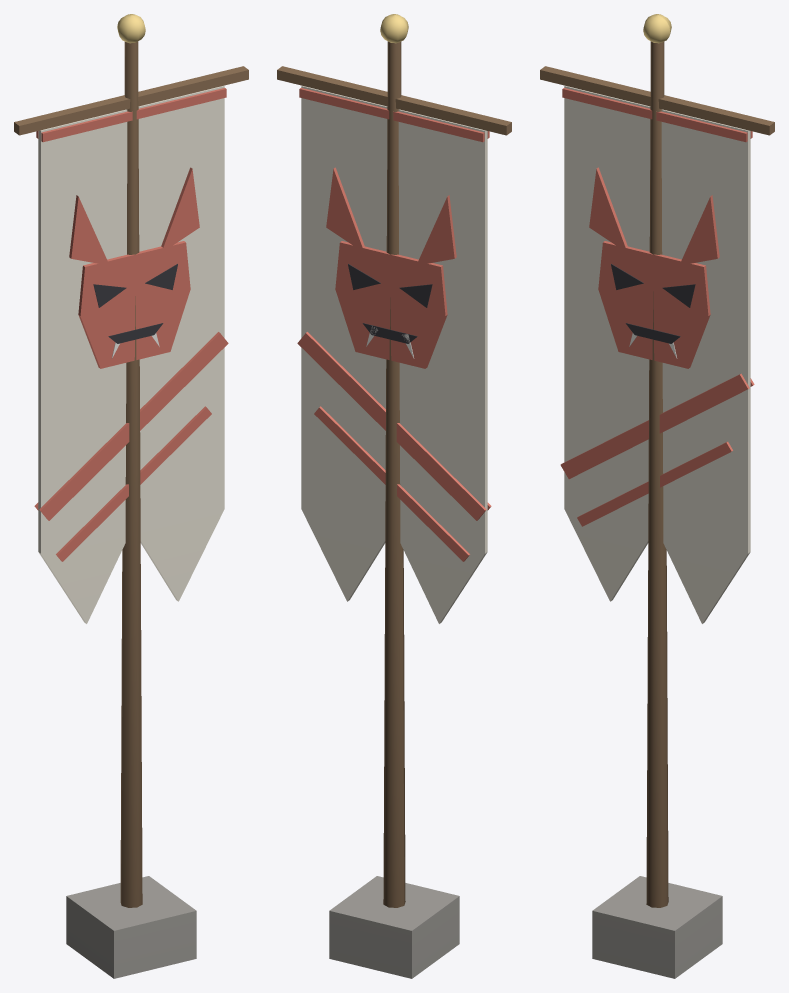
Rendered from banner_kurogane.glb.
3 renders of one model, left to right at view 1: azimuth 30°, elevation 25°; view 2: azimuth 150°, elevation 25°; view 3: azimuth 330°, elevation 25°, orthographic.
Visible parts, largest first — view 1: G_banner_kurogane; view 2: G_banner_kurogane; view 3: G_banner_kurogane.
Boxes of the visible parts, x1=… form: G_banner_kurogane: x1=14, y1=14, x2=248, y2=978; G_banner_kurogane: x1=277, y1=14, x2=511, y2=978; G_banner_kurogane: x1=540, y1=14, x2=774, y2=978.
Bounding box in the file's own units: 2.5 × 9.74 × 0.9.
